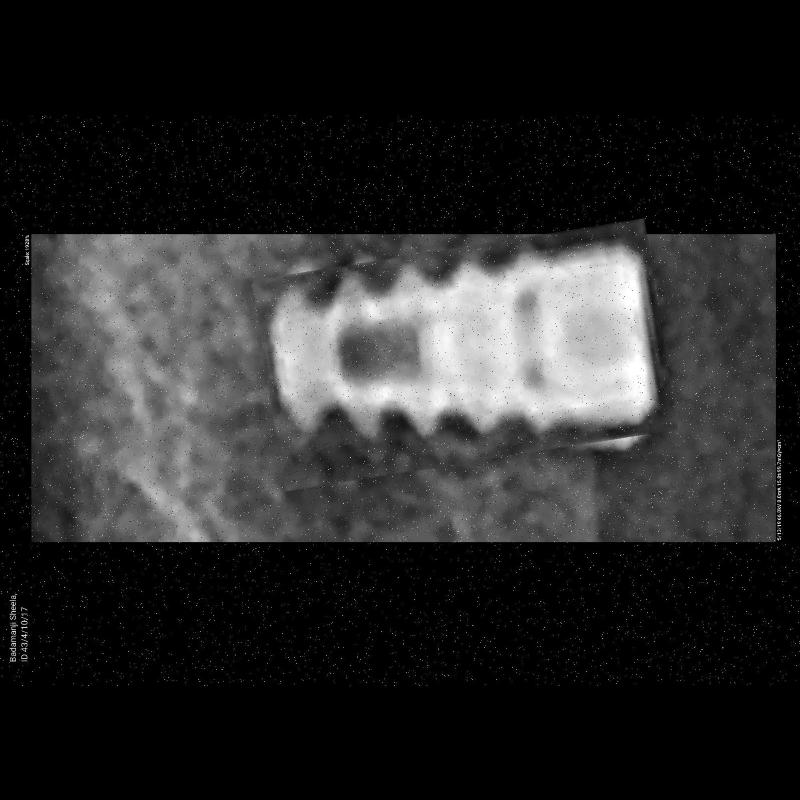NORIS: (258, 234, 670, 476)
